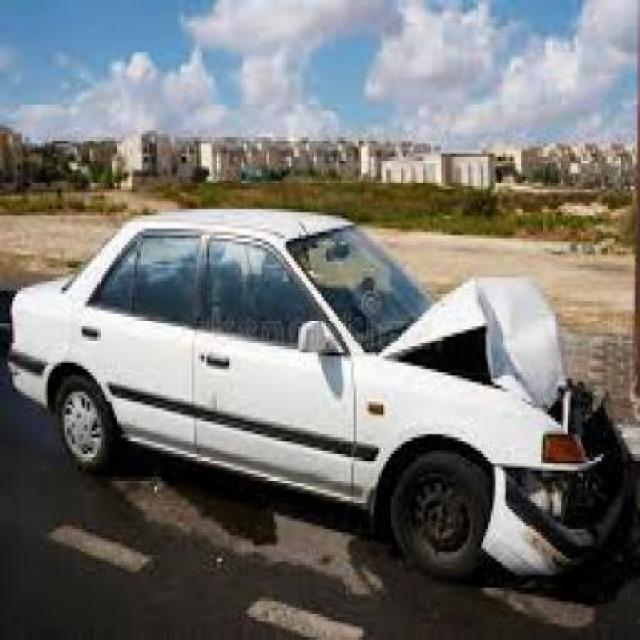damaged-hood: (384, 283, 570, 397)
